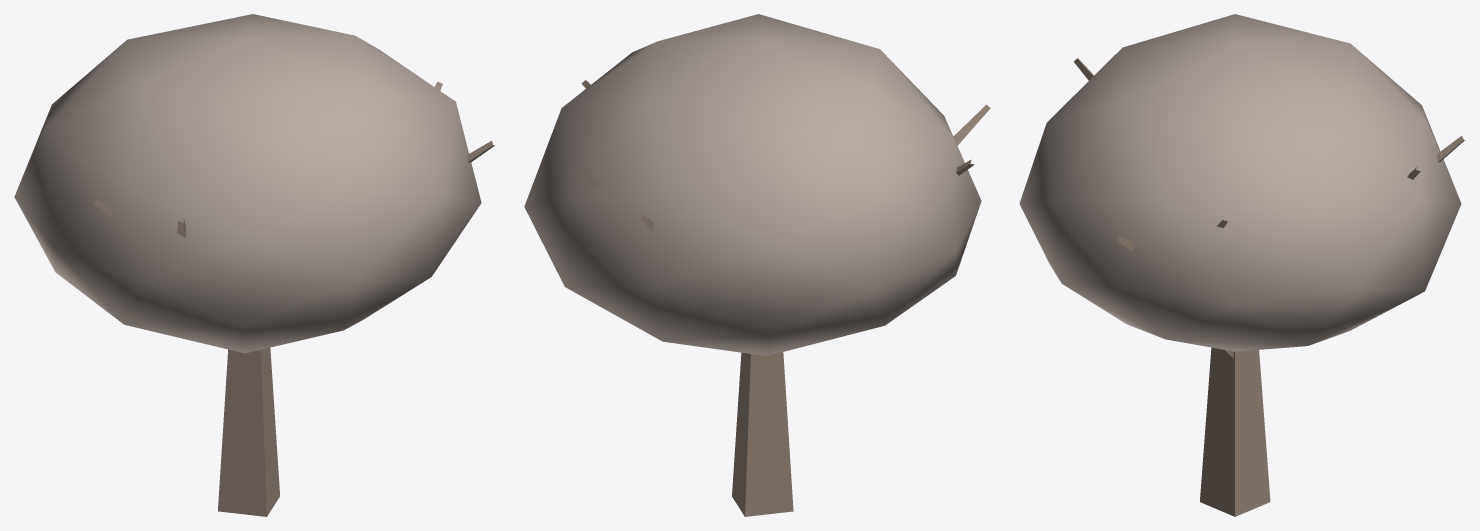
The model's file is tree-blossom-a-bare-far.glb.
3 views of the same model, side by side, from view 1: azimuth 30°, elevation 25°; view 2: azimuth 150°, elevation 25°; view 3: azimuth 270°, elevation 25° (orthographic).
Visible parts, largest first — view 1: tree-blossom-a-bare-far; view 2: tree-blossom-a-bare-far; view 3: tree-blossom-a-bare-far.
Part boxes in pixels (left/top/right/bottom): tree-blossom-a-bare-far: left=14, top=14, right=494, bottom=516; tree-blossom-a-bare-far: left=524, top=14, right=990, bottom=516; tree-blossom-a-bare-far: left=1019, top=14, right=1464, bottom=516.
Bounding box in the file's own units: 0.8625 × 0.9441 × 0.8354.
